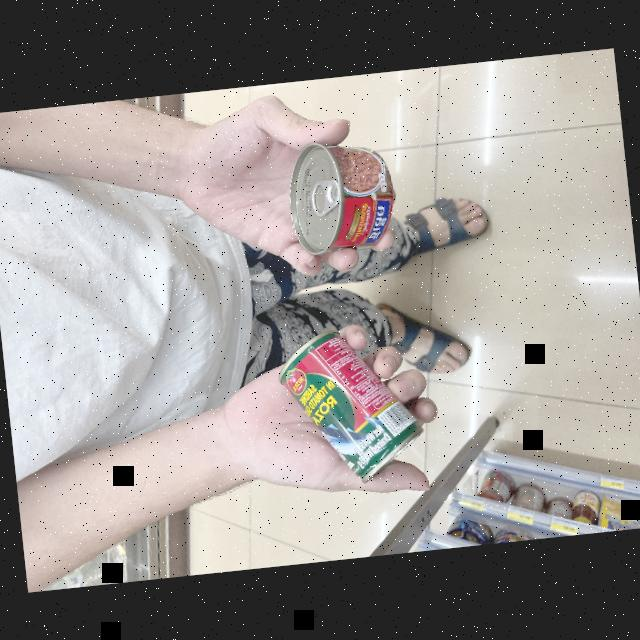can: (262, 312, 430, 500), (273, 126, 414, 270)
